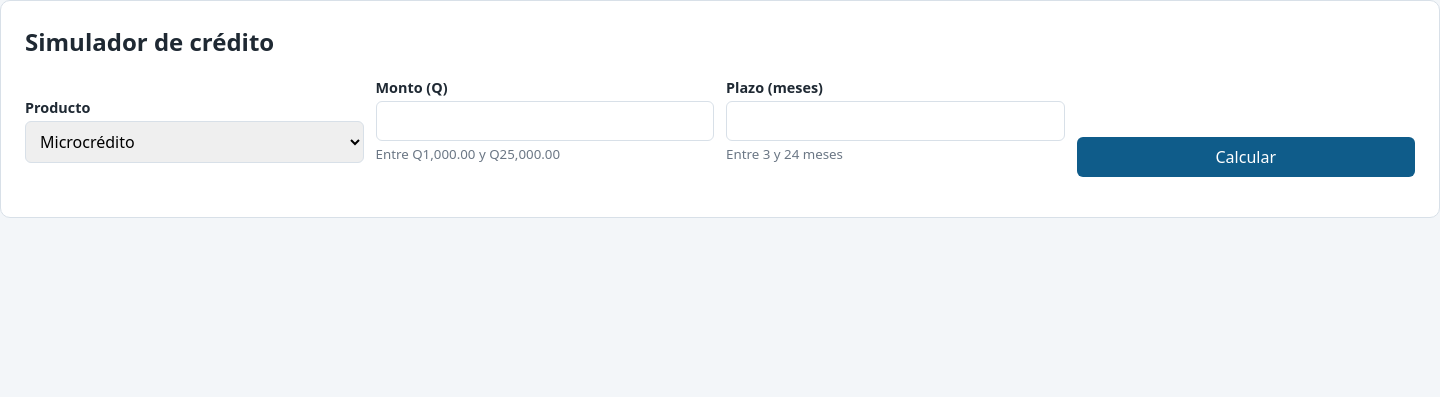
Test case: Simulador (API simulada con stub de fetch) › muestra los límites del producto y la cuota calculada
expect the text "Entre Q1,000.00 y Q25,000.00" is shown: met, box [376, 145, 560, 163]
Type "10000" into the number field labelled "Monto (Q) Entre Q1,000.00 y Q25,000.00". click: (545, 121)
box: [376, 101, 714, 141]
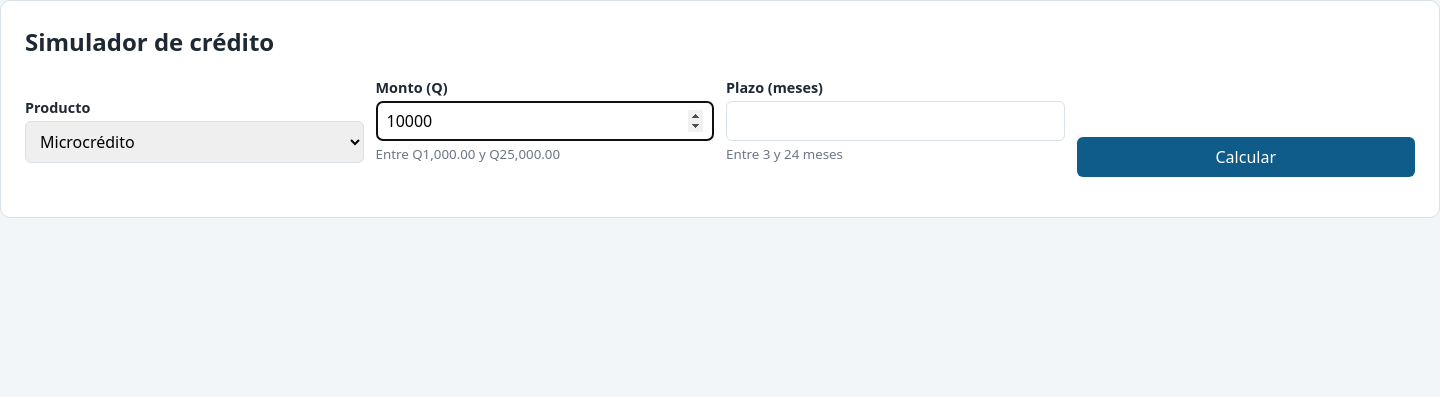
Type "12" into the number field labelled "Plazo (meses) Entre 3 y 24 meses". click: (895, 121)
box: [726, 101, 1064, 141]
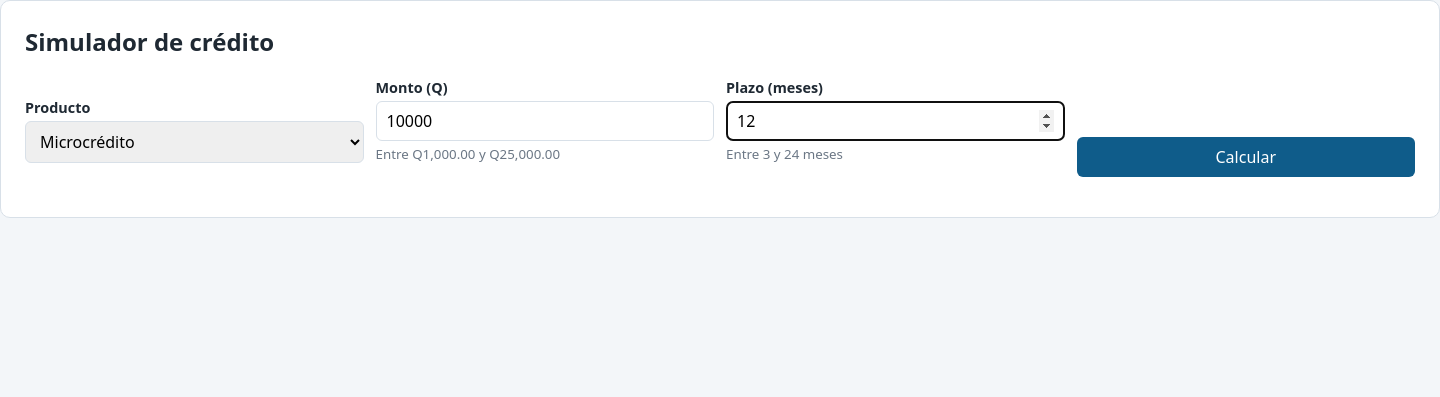
Click the button "Calcular". click: (1246, 157)
box: [1076, 137, 1415, 177]
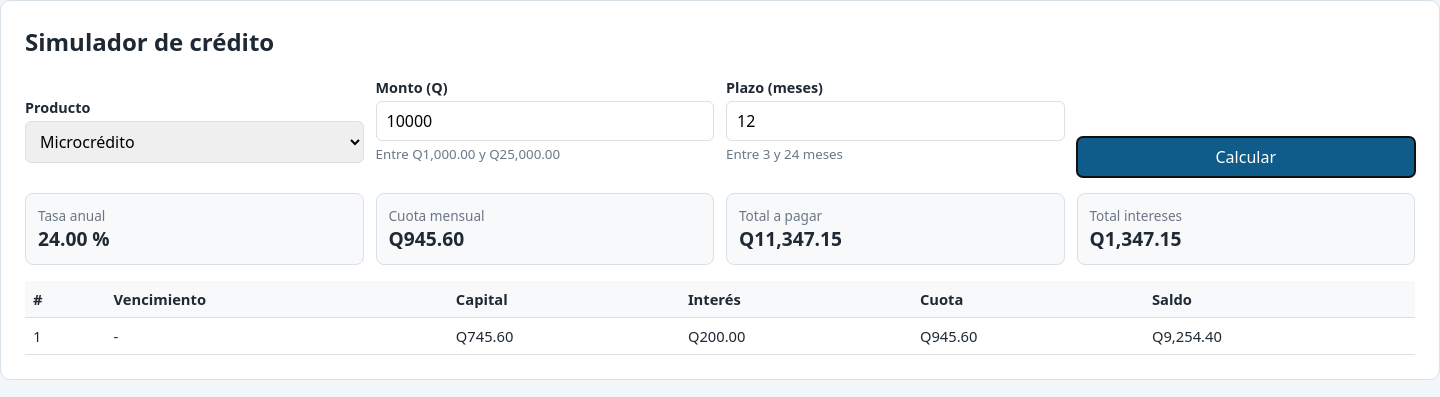
expect the text with test id "cuota" reads "Q945.60": met, box [388, 225, 464, 252]
